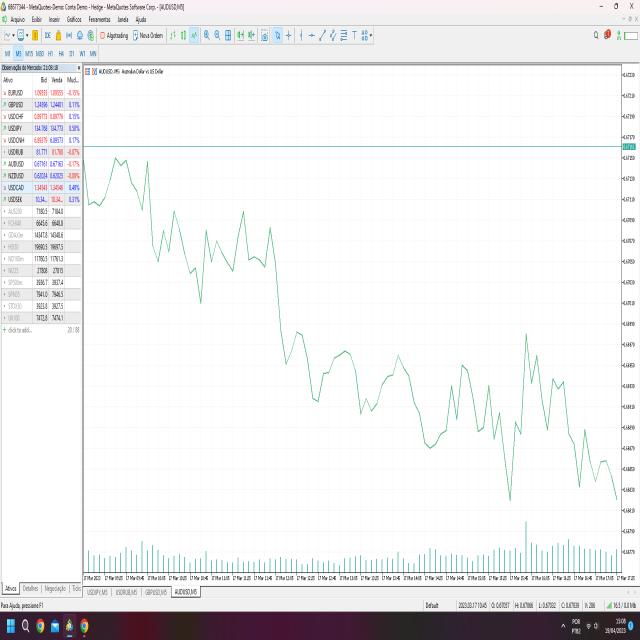oco_inv: (486, 385, 532, 523)
topo_duplo: (230, 194, 282, 342), (513, 326, 546, 409)
